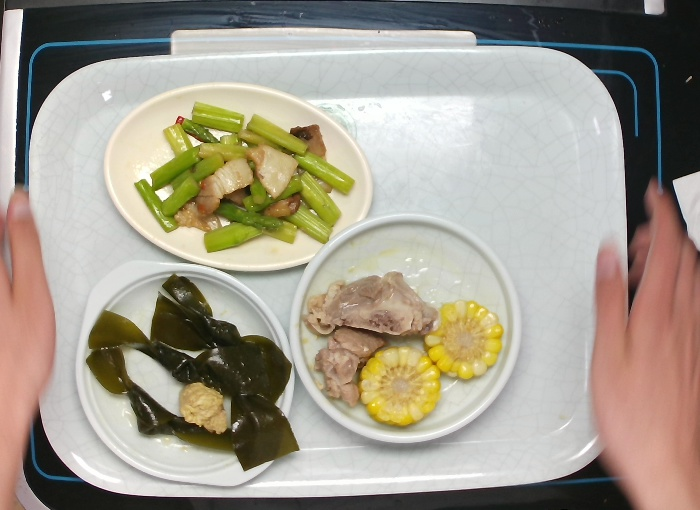JYsf-Shuang_Er_Pan: (69, 255, 302, 490)
JYsf-Tuo_Yuan_Wan: (102, 78, 376, 275)
JYsf-Xiao_Yuan_Pan: (287, 211, 527, 450)
